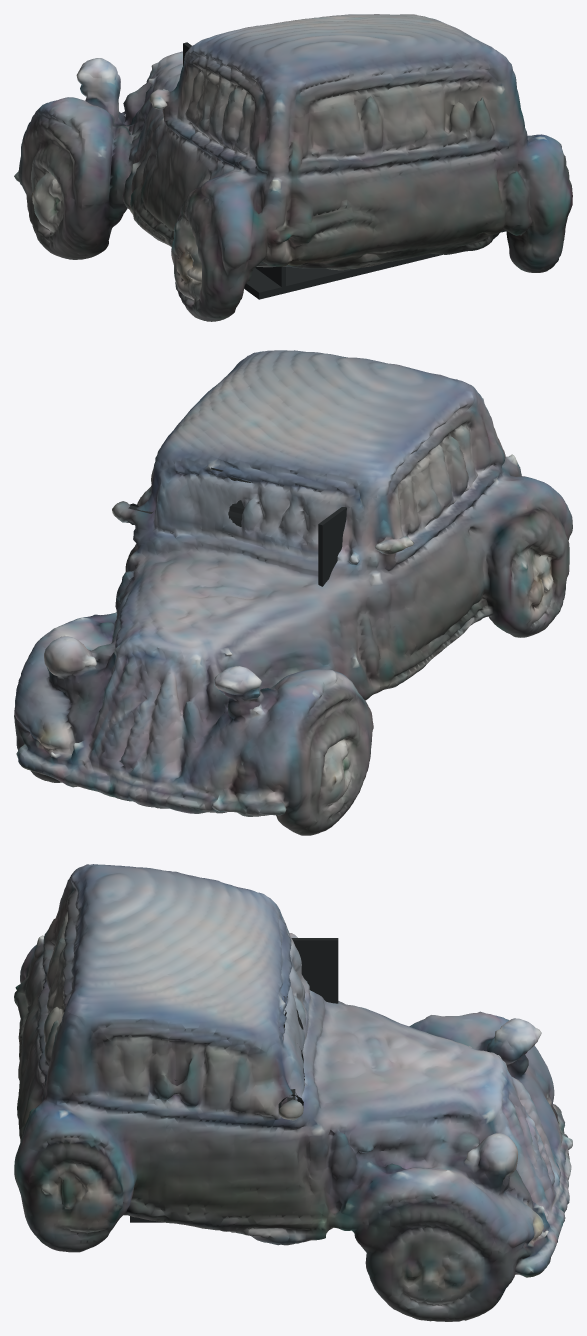
File: car_authored.glb
The picture shows the model from 3 angles, top to bottom: view 1: azimuth 30°, elevation 25°; view 2: azimuth 150°, elevation 25°; view 3: azimuth 270°, elevation 25°; orthographic projection. The views are drawn at different scales.
Visible parts, largest first — view 1: Body_fixed_generated_surface, Cabin_added_floor_proxy, Cabin_added_inner_wall_proxy; view 2: Body_fixed_generated_surface, Door_generated_outer_surface, Cabin_added_inner_wall_proxy; view 3: Body_fixed_generated_surface, Door_generated_outer_surface, Cabin_added_inner_wall_proxy.
Boxes of the visible parts, bbox=[...] form: Body_fixed_generated_surface: bbox=[14, 14, 572, 321]; Cabin_added_floor_proxy: bbox=[244, 253, 442, 299]; Cabin_added_inner_wall_proxy: bbox=[183, 42, 285, 286]; Body_fixed_generated_surface: bbox=[14, 350, 572, 835]; Door_generated_outer_surface: bbox=[112, 416, 233, 571]; Cabin_added_inner_wall_proxy: bbox=[318, 507, 346, 586]; Body_fixed_generated_surface: bbox=[14, 864, 572, 1321]; Door_generated_outer_surface: bbox=[164, 986, 311, 1227]; Cabin_added_inner_wall_proxy: bbox=[291, 938, 338, 1003].
Size of the model in its own units: 0.6612 by 0.5696 by 0.832.
